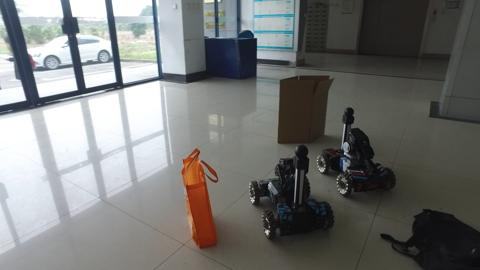bag: (180, 147, 220, 248)
box: (277, 70, 332, 145)
chariot: (249, 144, 337, 243), (319, 105, 398, 198)
